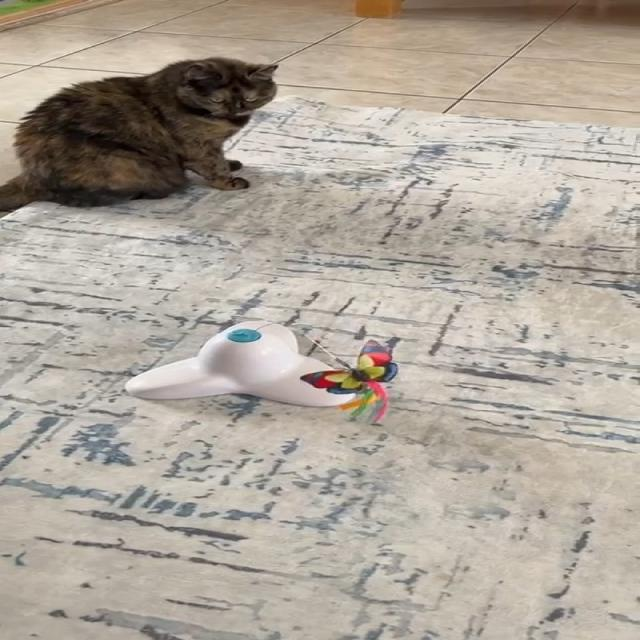authorized: (0, 56, 279, 212)
